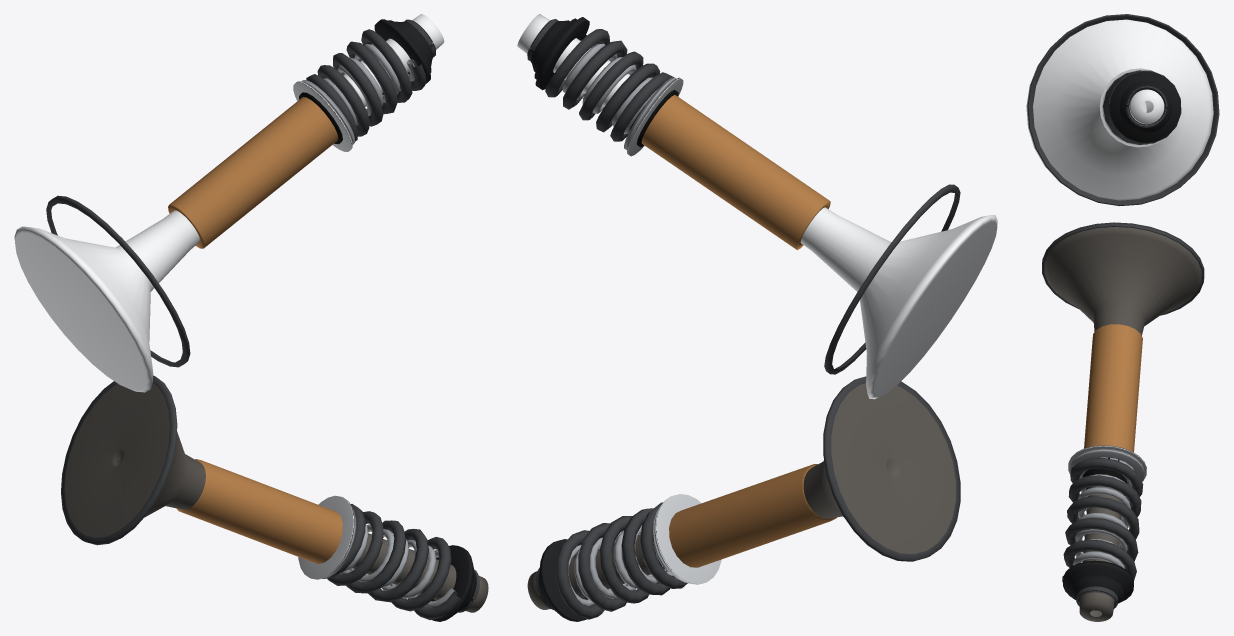
File: valve-set-2.glb
The picture shows the model from 3 angles, left to right: view 1: azimuth 30°, elevation 25°; view 2: azimuth 150°, elevation 25°; view 3: azimuth 270°, elevation 25°; orthographic projection. The views are drawn at different scales.
Visible parts, largest first — view 1: valve-set-2:bronze, valve-set-2:chrome, valve-set-2:darkSteel, valve-set-2:heatSteel, valve-set-2:steel, valve-set-2:satinBlack, valve-set-2:polishedSteel; view 2: valve-set-2:bronze, valve-set-2:heatSteel, valve-set-2:darkSteel, valve-set-2:chrome, valve-set-2:steel, valve-set-2:satinBlack, valve-set-2:polishedSteel; view 3: valve-set-2:chrome, valve-set-2:heatSteel, valve-set-2:darkSteel, valve-set-2:bronze, valve-set-2:satinBlack, valve-set-2:steel, valve-set-2:polishedSteel, valve-set-2:rubber.
Part boxes in pixels (x1,y1,x2,y2): valve-set-2:bronze: [168, 97, 342, 563]; valve-set-2:chrome: [14, 14, 444, 392]; valve-set-2:darkSteel: [46, 19, 479, 620]; valve-set-2:heatSteel: [64, 383, 488, 612]; valve-set-2:steel: [301, 44, 455, 607]; valve-set-2:satinBlack: [374, 19, 476, 621]; valve-set-2:polishedSteel: [293, 81, 354, 579]; valve-set-2:bronze: [641, 95, 836, 567]; valve-set-2:heatSteel: [527, 383, 955, 609]; valve-set-2:darkSteel: [527, 19, 960, 619]; valve-set-2:chrome: [517, 14, 997, 399]; valve-set-2:steel: [561, 40, 686, 606]; valve-set-2:satinBlack: [530, 17, 589, 621]; valve-set-2:polishedSteel: [627, 77, 721, 584]; valve-set-2:chrome: [1026, 19, 1213, 200]; valve-set-2:heatSteel: [1044, 227, 1201, 621]; valve-set-2:darkSteel: [1027, 14, 1219, 608]; valve-set-2:bronze: [1084, 107, 1146, 452]; valve-set-2:satinBlack: [1063, 71, 1180, 610]; valve-set-2:steel: [1070, 71, 1144, 568]; valve-set-2:polishedSteel: [1068, 68, 1161, 481]; valve-set-2:rubber: [1082, 457, 1127, 495].
Size of the model in its own units: 115 by 150 by 49.75.
